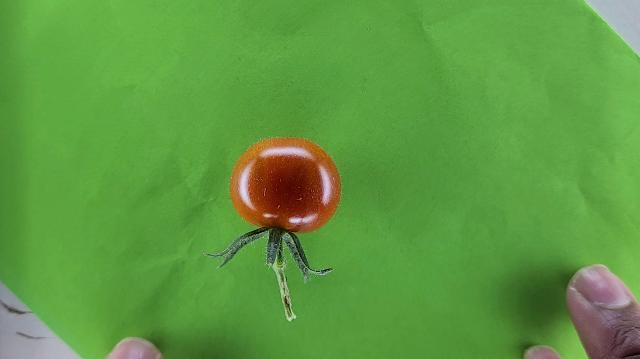Fully Grown: (227, 136, 342, 234)
